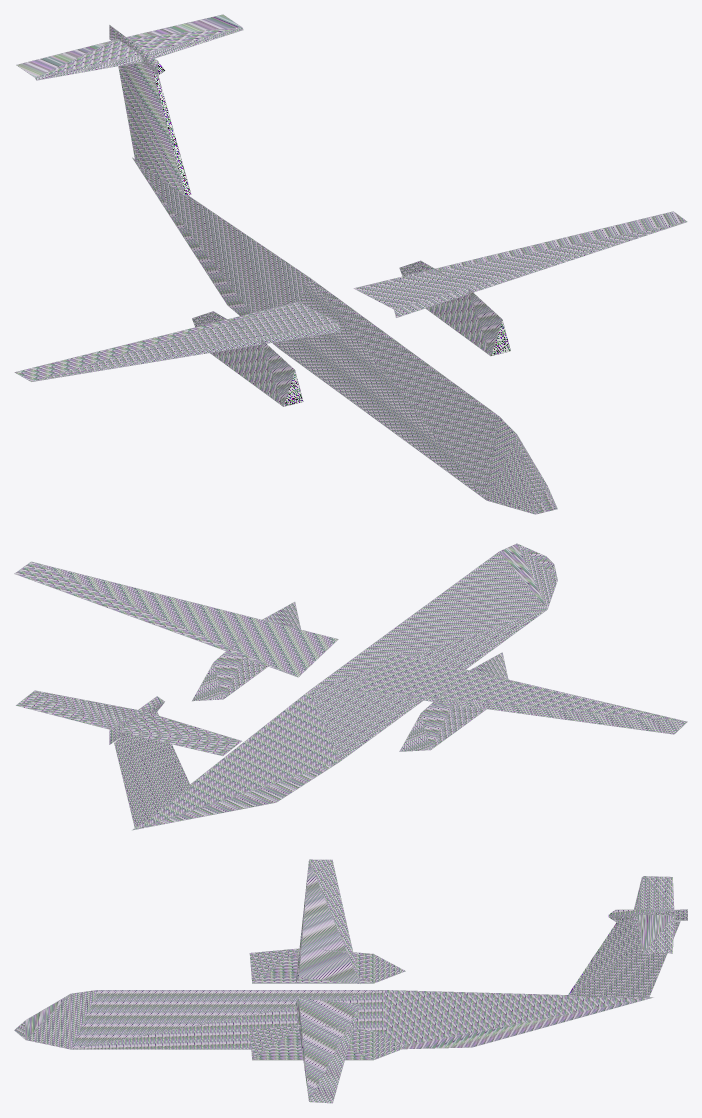
File: tfs_dash8_q400_msfs_LOD1.gltf
3 views of the same model, one above another, from view 1: azimuth 30°, elevation 25°; view 2: azimuth 150°, elevation 25°; view 3: azimuth 270°, elevation 25° (orthographic). The views are drawn at different scales.
Parts seen in each view (by area): view 1: node1; view 2: node1; view 3: node1.
Part boxes in pixels (box(x1,y1,x2,y2)): node1: box(14, 14, 687, 514); node1: box(14, 543, 687, 830); node1: box(14, 859, 687, 1103).
Size of the model in its own units: 28.25 by 6.97 by 33.
